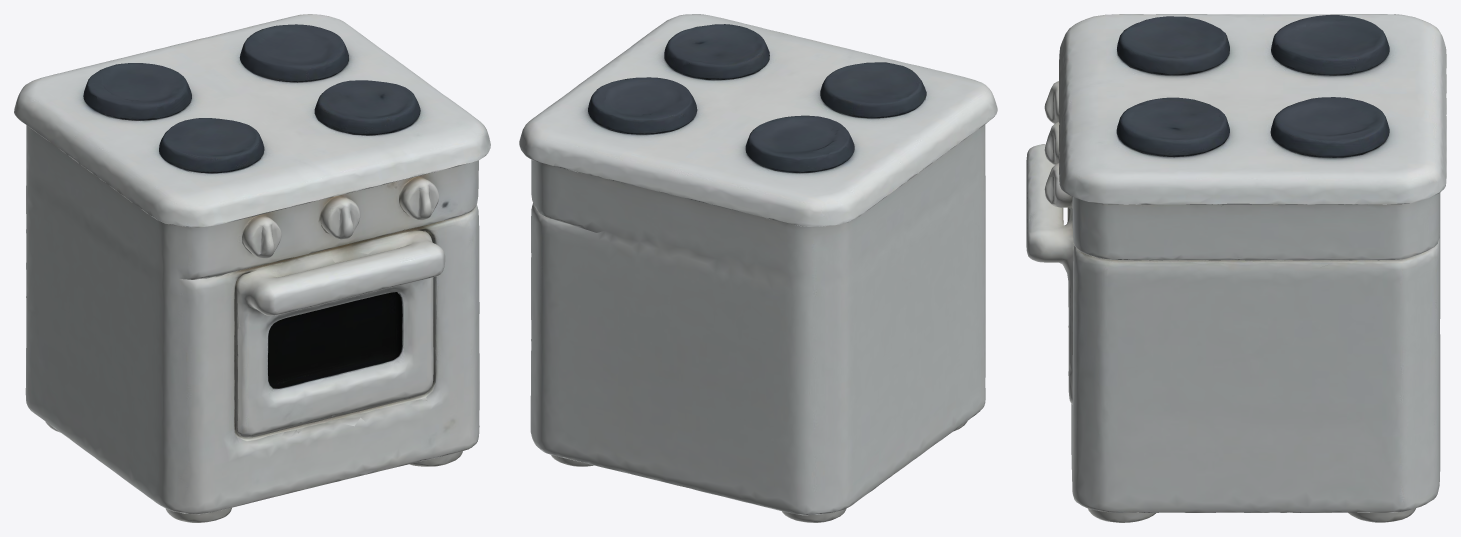
Rendered from stove.glb.
The picture shows the model from 3 angles, left to right: view 1: azimuth 30°, elevation 25°; view 2: azimuth 150°, elevation 25°; view 3: azimuth 270°, elevation 25°; orthographic projection. The views are drawn at different scales.
Parts seen in each view (by area): view 1: Mesh; view 2: Mesh; view 3: Mesh.
Part boxes in pixels (left/top/right/bottom): Mesh: left=14, top=14, right=490, bottom=522; Mesh: left=519, top=14, right=997, bottom=522; Mesh: left=1026, top=14, right=1446, bottom=522.
Size of the model in its own units: 1.86 by 1.85 by 1.89.
Materials: 1 (1 with a texture image).
